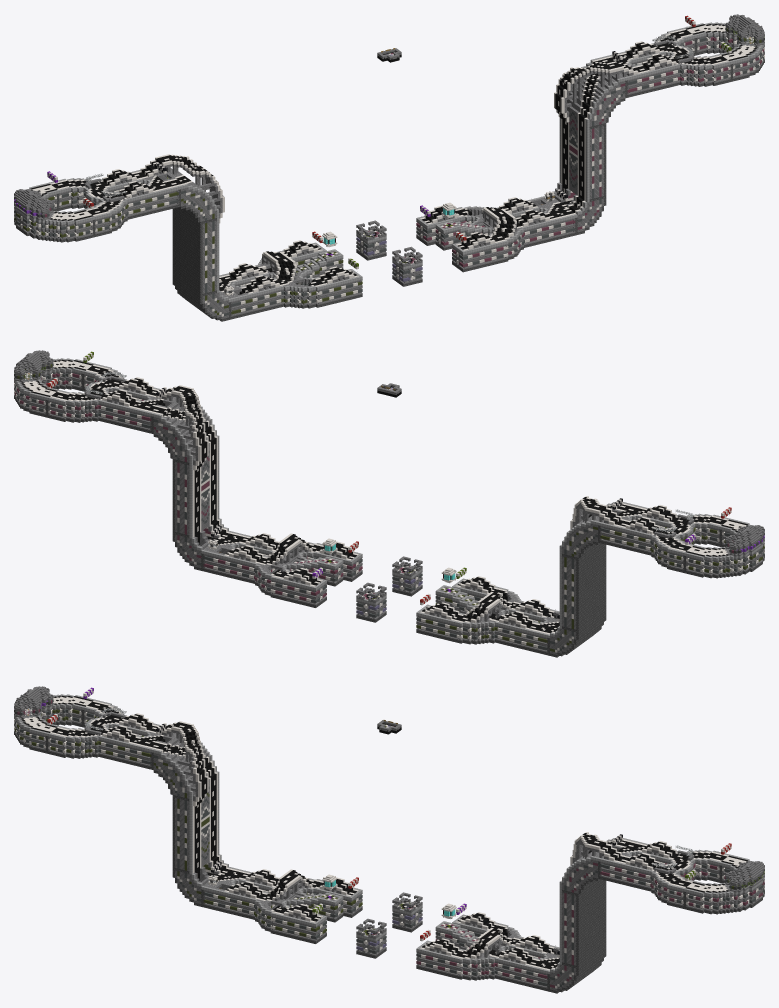
The model's file is minecraft.obj.
The picture shows the model from 3 angles, top to bottom: view 1: azimuth 30°, elevation 25°; view 2: azimuth 150°, elevation 25°; view 3: azimuth 330°, elevation 25°; orthographic projection.
Bounding box in the file's own units: 308 × 87 × 34.
